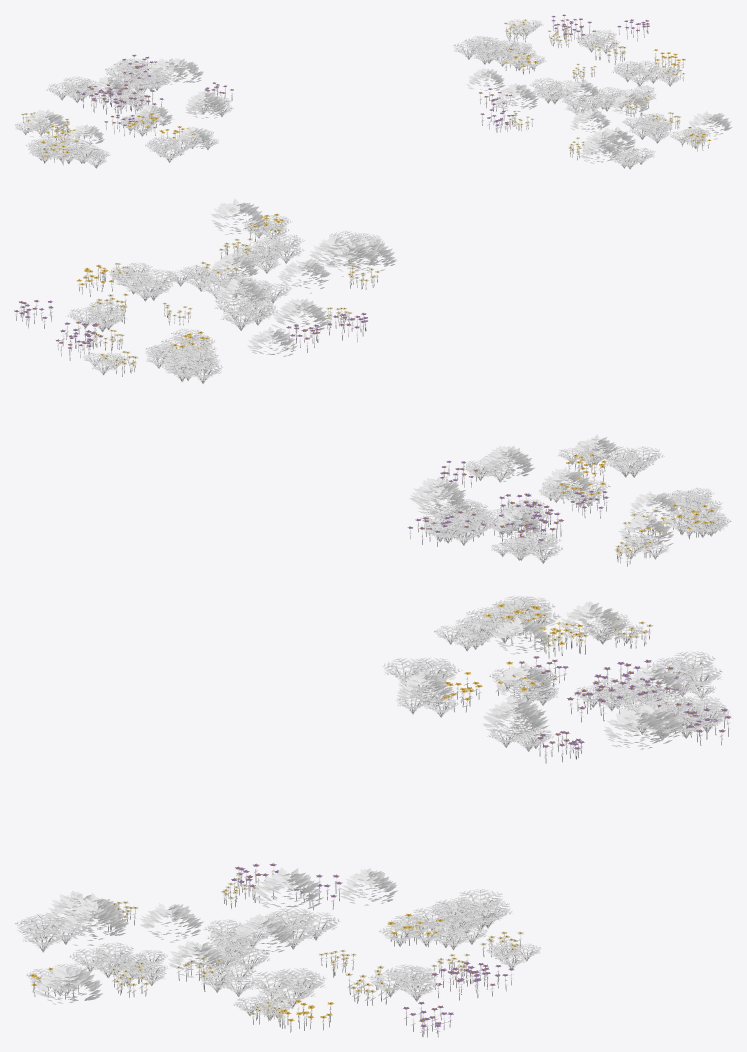
File: SM_NW_Nature_3_2_Flora.fbx
3 renders of one model, top to bottom at view 1: azimuth 30°, elevation 25°; view 2: azimuth 150°, elevation 25°; view 3: azimuth 270°, elevation 25°, orthographic. The views are drawn at different scales.
Visible parts, largest first — view 1: SM_NW_Nature_3_2_Flora; view 2: SM_NW_Nature_3_2_Flora; view 3: SM_NW_Nature_3_2_Flora.
Part boxes in pixels (x1,y1,x2,y2): SM_NW_Nature_3_2_Flora: (15,14,732,169); SM_NW_Nature_3_2_Flora: (14,198,731,566); SM_NW_Nature_3_2_Flora: (15,595,732,1037).
Size of the model in its own units: 2811 by 1939 by 149.
